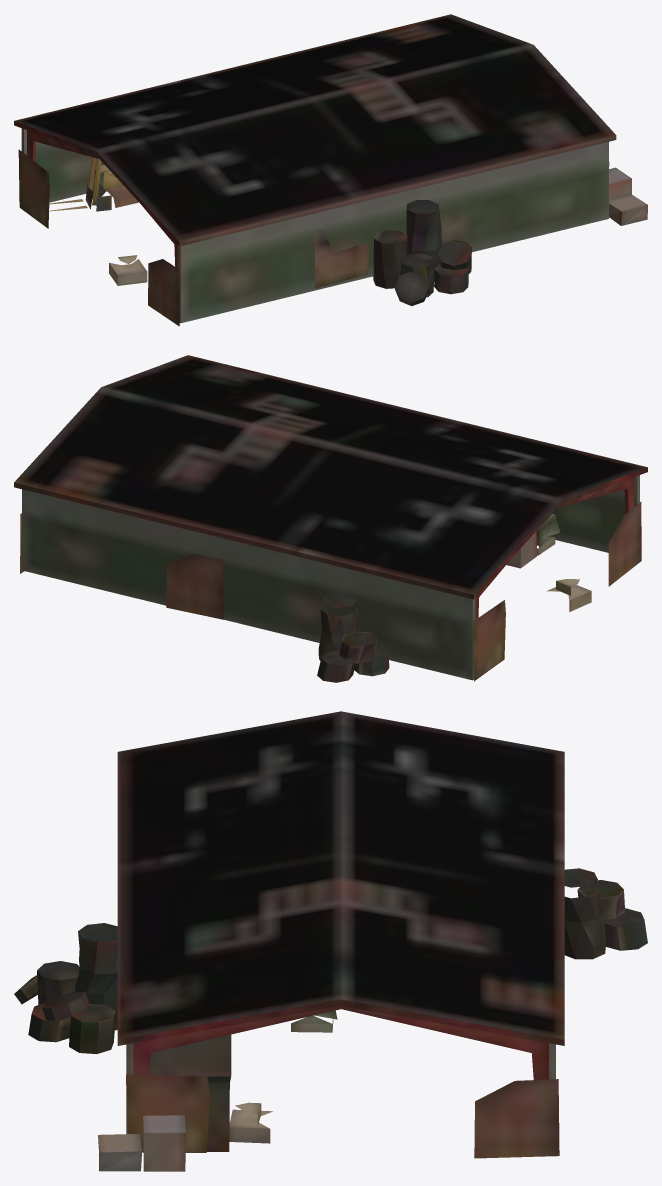
The model's file is warehouse-map.glb.
3 renders of one model, top to bottom at view 1: azimuth 30°, elevation 25°; view 2: azimuth 150°, elevation 25°; view 3: azimuth 270°, elevation 25°, orthographic. The views are drawn at different scales.
Parts seen in each view (by area): view 1: warehouse_hlod; view 2: warehouse_hlod; view 3: warehouse_hlod.
Boxes of the visible parts, x1,y1,x2,y2 form: warehouse_hlod: (14,14,647,326); warehouse_hlod: (14,355,647,682); warehouse_hlod: (14,711,647,1171).
Size of the model in its own units: 26.26 by 6.42 by 22.87.
1 material, 1 textured.
